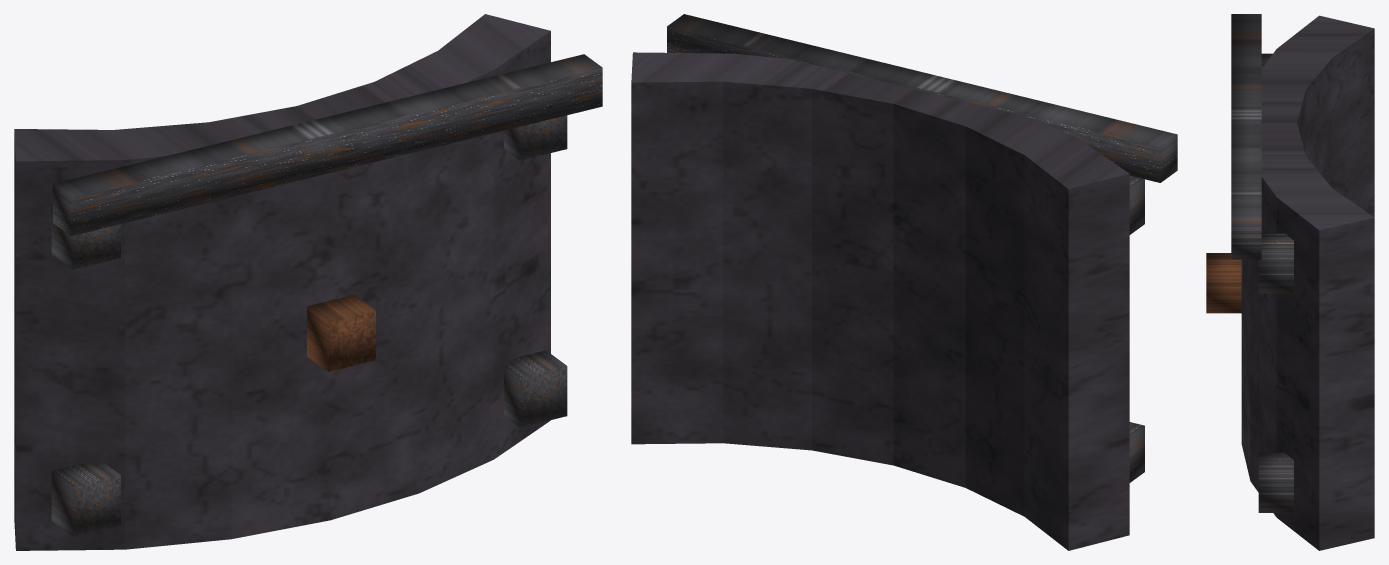
File: elite_plate.obj
3 renders of one model, left to right at view 1: azimuth 30°, elevation 25°; view 2: azimuth 150°, elevation 25°; view 3: azimuth 270°, elevation 25°, orthographic. The views are drawn at different scales.
Parts seen in each view (by area): view 1: elite_plate; view 2: elite_plate; view 3: elite_plate.
Boxes of the visible parts, x1,y1,x2,y2 form: elite_plate: (14, 14, 602, 550); elite_plate: (631, 14, 1177, 550); elite_plate: (1206, 14, 1374, 550).
Size of the model in its own units: 0.629 by 0.4407 by 0.2086.
